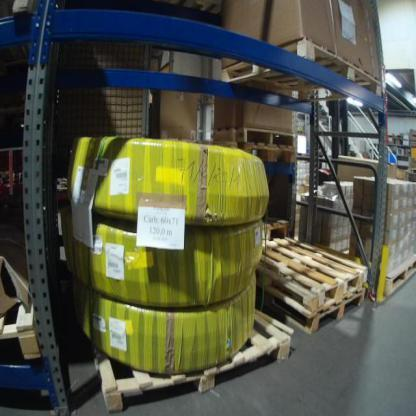pallet: (94, 304, 293, 414), (260, 234, 368, 315), (283, 37, 384, 98), (262, 289, 365, 334)
